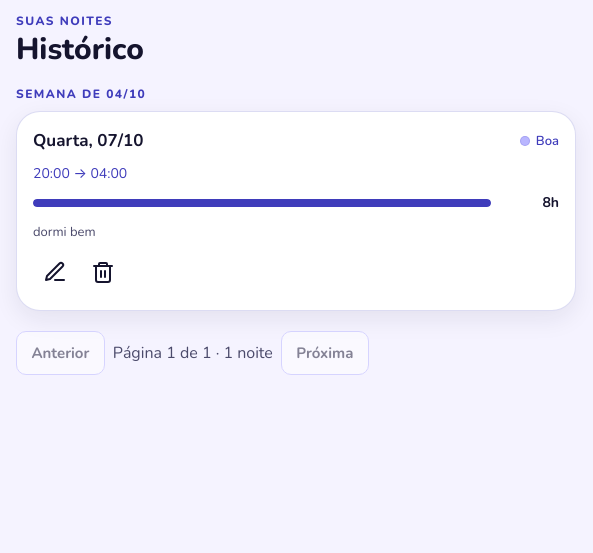
Test: tela de Histórico › não exclui registro se a tela é de outra sessão (#298)
Click the button named "Excluir".
click(103, 272)  # box [81,250,125,294]
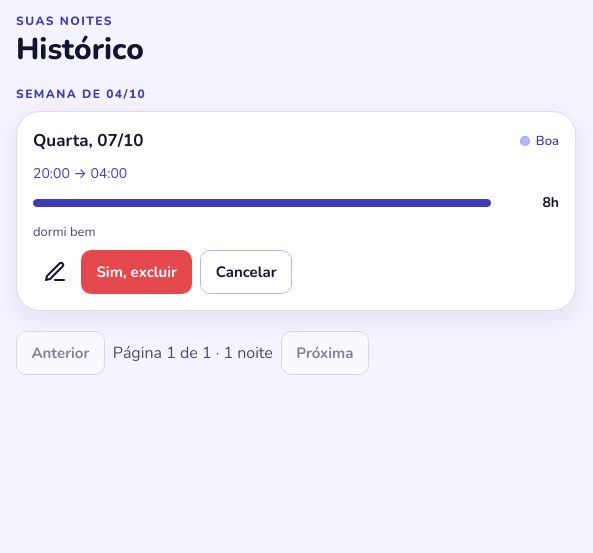
Click the button "Sim, excluir".
click(137, 272)  # box [81,250,192,294]
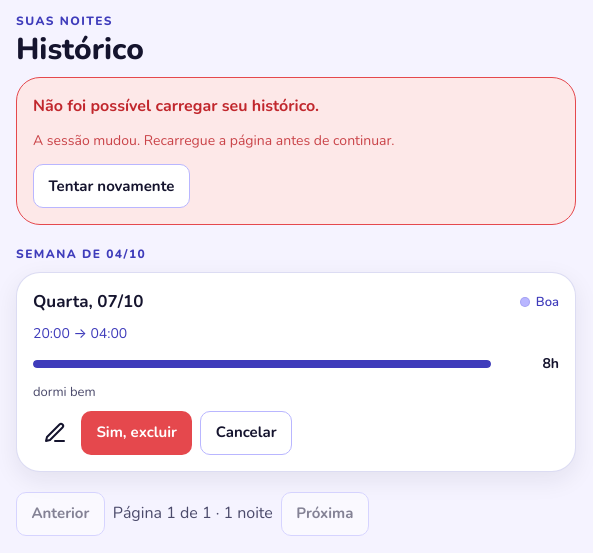
Result: the message shows "sessão mudou" at [33,131,394,150]
